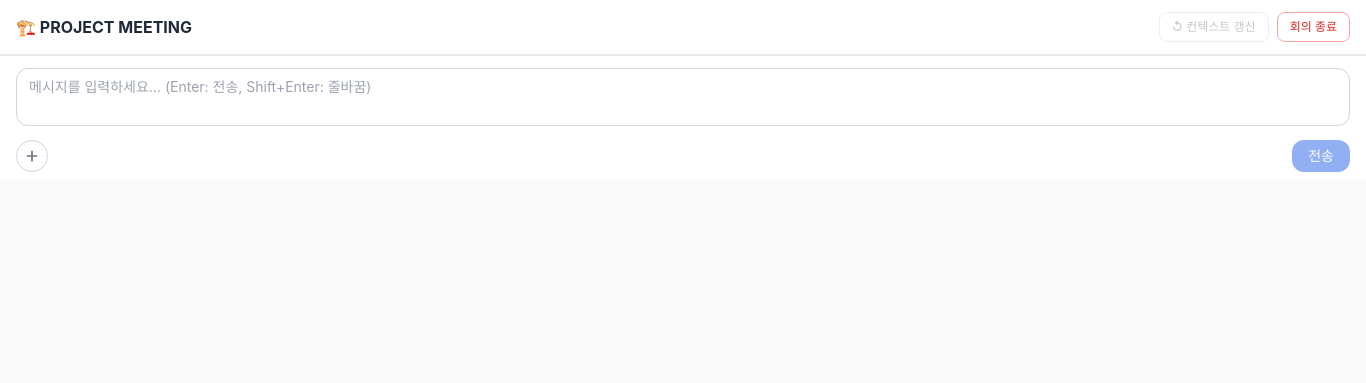
Test case: MeetingApp › 회의 종료 시 완료 화면이 표시되어야 한다
The image size is (1366, 383).
Click the button "회의 종료" at x=1313, y=27, box [1277, 12, 1350, 42]
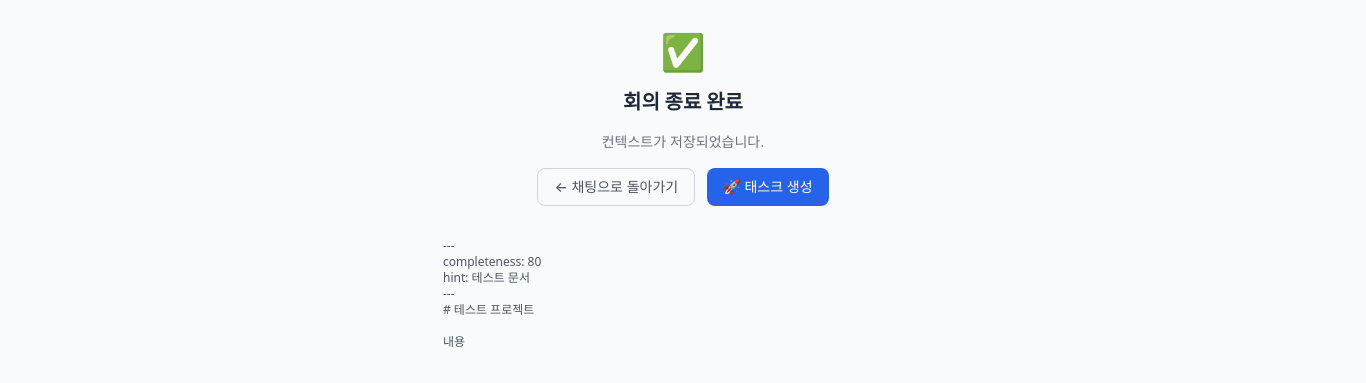
Expected: the element with test id "meeting-finished" is shown, [427, 30, 939, 366]
